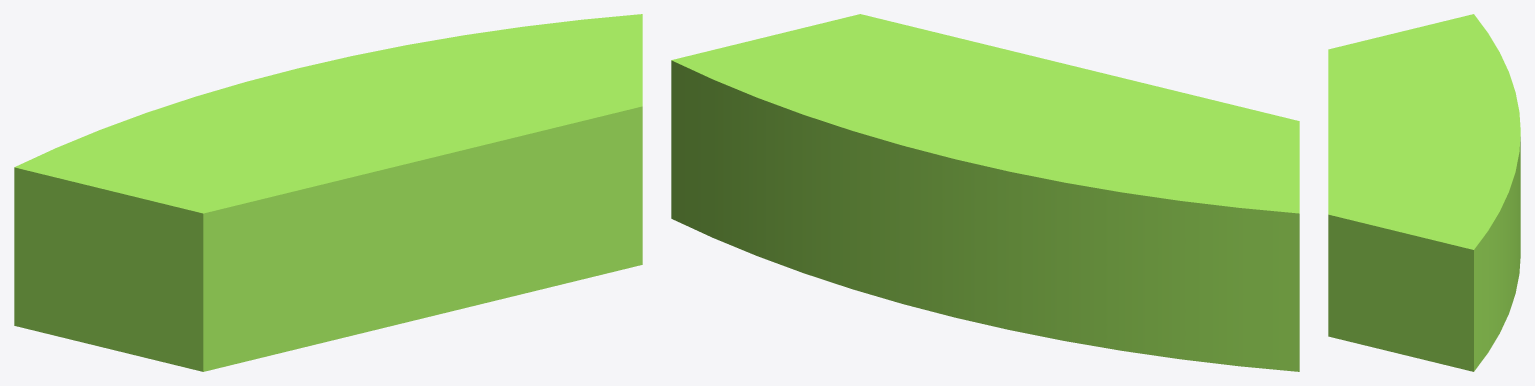
Rendered from verde_claro.obj.
The picture shows the model from 3 angles, left to right: view 1: azimuth 30°, elevation 25°; view 2: azimuth 150°, elevation 25°; view 3: azimuth 270°, elevation 25°; orthographic projection. The views are drawn at different scales.
Parts seen in each view (by area): view 1: Mesh1 Group1 Model; view 2: Mesh1 Group1 Model; view 3: Mesh1 Group1 Model.
Part boxes in pixels (x1,y1,x2,y2): Mesh1 Group1 Model: (14,14,642,371); Mesh1 Group1 Model: (671,14,1299,371); Mesh1 Group1 Model: (1328,14,1520,371).
Bounding box in the file's own units: 85.1 × 20.5 × 29.34.
